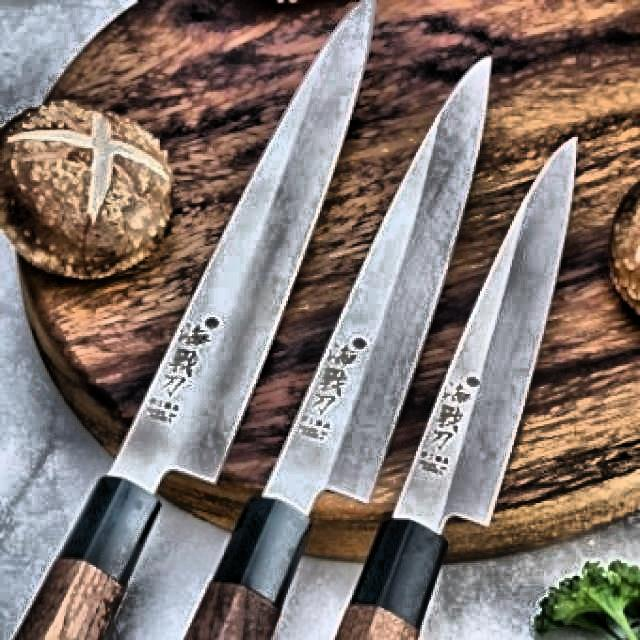knife: (14, 0, 380, 640), (183, 58, 495, 640), (329, 137, 577, 640)
